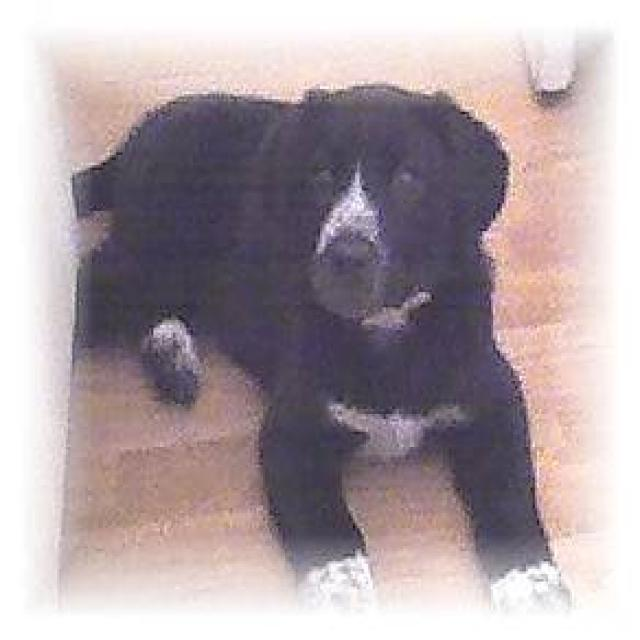Dog: (276, 76, 493, 345)
